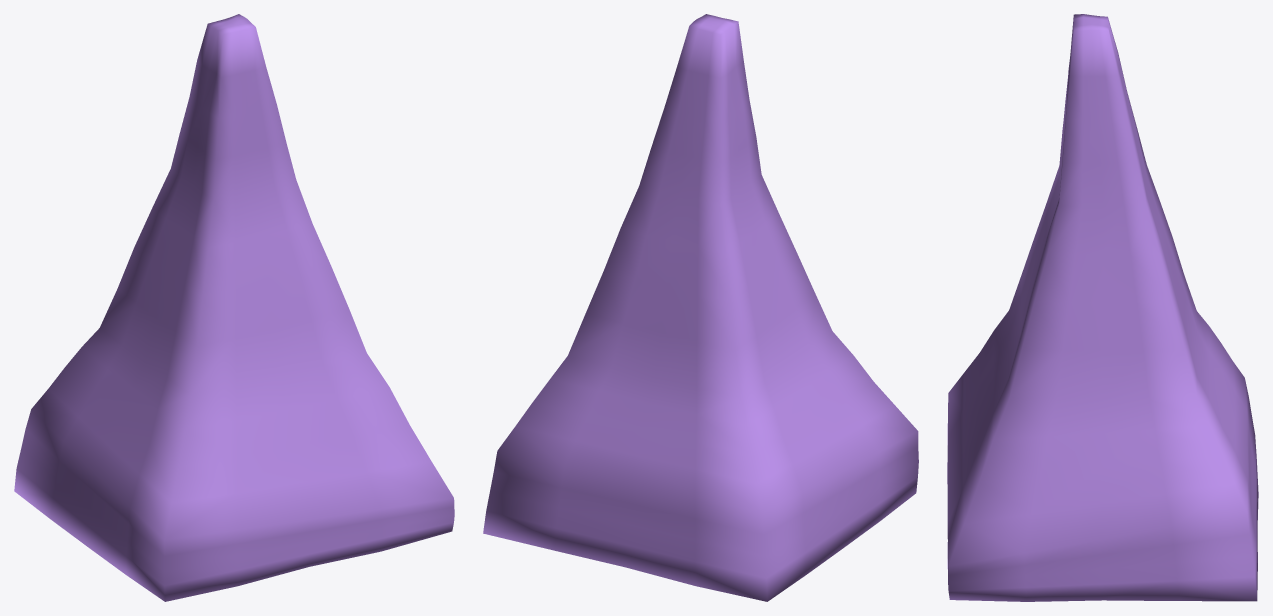
Rendered from mountain.fbx.
3 views of the same model, side by side, from view 1: azimuth 30°, elevation 25°; view 2: azimuth 150°, elevation 25°; view 3: azimuth 270°, elevation 25° (orthographic). The views are drawn at different scales.
Visible parts, largest first — view 1: mountain; view 2: mountain; view 3: mountain.
Boxes of the visible parts, x1=… form: mountain: x1=14, y1=14, x2=454, y2=601; mountain: x1=483, y1=14, x2=918, y2=601; mountain: x1=947, y1=14, x2=1258, y2=601.
Bounding box in the file's own units: 3921 × 6420 × 3572.
